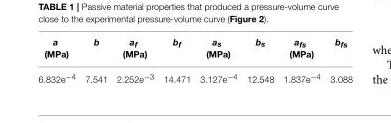table: (37, 37, 351, 83)
table column: (194, 37, 241, 83), (111, 37, 157, 83), (278, 37, 324, 83), (37, 37, 79, 83), (157, 37, 194, 83), (241, 37, 278, 83), (79, 37, 111, 83), (324, 37, 351, 83)
table column header: (37, 37, 351, 65)
table row: (37, 37, 351, 65), (37, 65, 351, 83)
